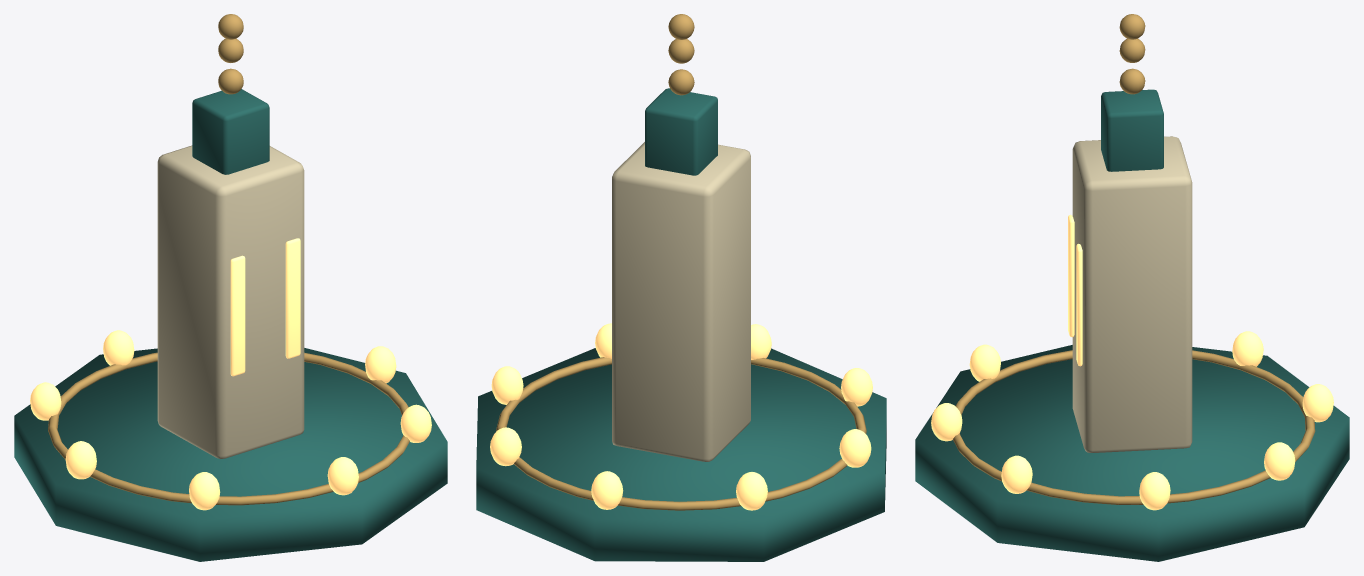
3 views of the same model, side by side, from view 1: azimuth 30°, elevation 25°; view 2: azimuth 150°, elevation 25°; view 3: azimuth 270°, elevation 25° (orthographic).
Visible parts, largest first — view 1: Hexagonal plinth, Koutoubia minaret, Upper chamber, Inlaid rim, Zellij panel, Zellij panel.001, Garden inlay.005, Garden inlay.004, Garden inlay.006, Garden inlay.007, Garden inlay.003, Garden inlay (+3 smaller); view 2: Hexagonal plinth, Koutoubia minaret, Upper chamber, Inlaid rim, Garden inlay.003, Garden inlay.004, Garden inlay.002, Garden inlay.001, Garden inlay.005, Garden inlay, Garden inlay.006, Copper finial (+2 smaller); view 3: Hexagonal plinth, Koutoubia minaret, Inlaid rim, Upper chamber, Garden inlay, Garden inlay.001, Garden inlay.007, Garden inlay.006, Garden inlay.002, Garden inlay.005, Garden inlay.003, Zellij panel (+3 smaller).
Part boxes in pixels (<box>): Hexagonal plinth: <box>14,348,447,561</box>; Koutoubia minaret: <box>157,145,304,458</box>; Upper chamber: <box>192,89,269,174</box>; Inlaid rim: <box>48,352,409,505</box>; Zellij panel: <box>230,255,245,376</box>; Zellij panel.001: <box>285,238,300,358</box>; Garden inlay.005: <box>189,472,220,510</box>; Garden inlay.004: <box>65,441,96,479</box>; Garden inlay.006: <box>327,457,358,495</box>; Garden inlay.007: <box>400,404,431,442</box>; Garden inlay.003: <box>30,382,61,420</box>; Garden inlay: <box>365,346,396,383</box>; Hexagonal plinth: <box>476,348,886,561</box>; Koutoubia minaret: <box>612,142,750,461</box>; Upper chamber: <box>645,88,717,175</box>; Inlaid rim: <box>496,357,866,510</box>; Garden inlay.003: <box>736,472,767,510</box>; Garden inlay.004: <box>839,429,871,467</box>; Garden inlay.002: <box>591,471,623,509</box>; Garden inlay.001: <box>490,427,521,466</box>; Garden inlay.005: <box>841,368,872,406</box>; Garden inlay: <box>491,366,523,404</box>; Garden inlay.006: <box>751,324,771,359</box>; Copper finial: <box>668,69,694,95</box>; Hexagonal plinth: <box>915,345,1349,561</box>; Koutoubia minaret: <box>1072,136,1192,452</box>; Inlaid rim: <box>952,350,1315,504</box>; Upper chamber: <box>1101,89,1163,171</box>; Garden inlay: <box>1139,472,1170,510</box>; Garden inlay.001: <box>1264,442,1295,480</box>; Garden inlay.007: <box>1001,455,1032,493</box>; Garden inlay.006: <box>931,403,962,441</box>; Garden inlay.002: <box>1302,384,1333,422</box>; Garden inlay.005: <box>969,344,1000,381</box>; Garden inlay.003: <box>1232,331,1263,366</box>; Zellij panel: <box>1068,215,1074,337</box>.
Size of the model in its own units: 1.51 by 1.74 by 1.51.
